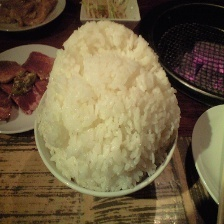rice: (34, 20, 179, 192)
